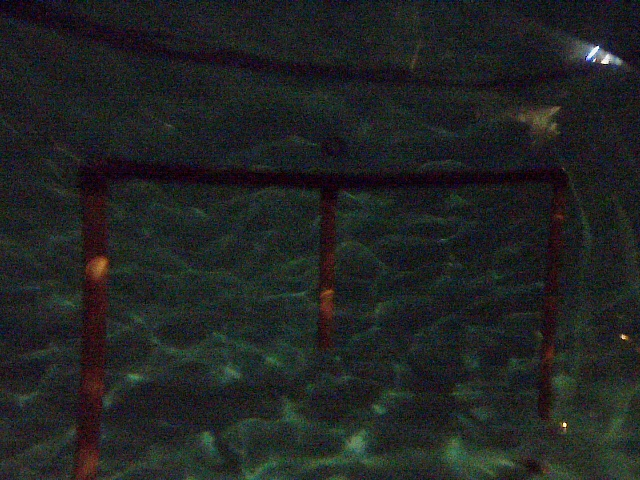Gate: (66, 181, 113, 480), (533, 182, 574, 419), (313, 193, 342, 344)
